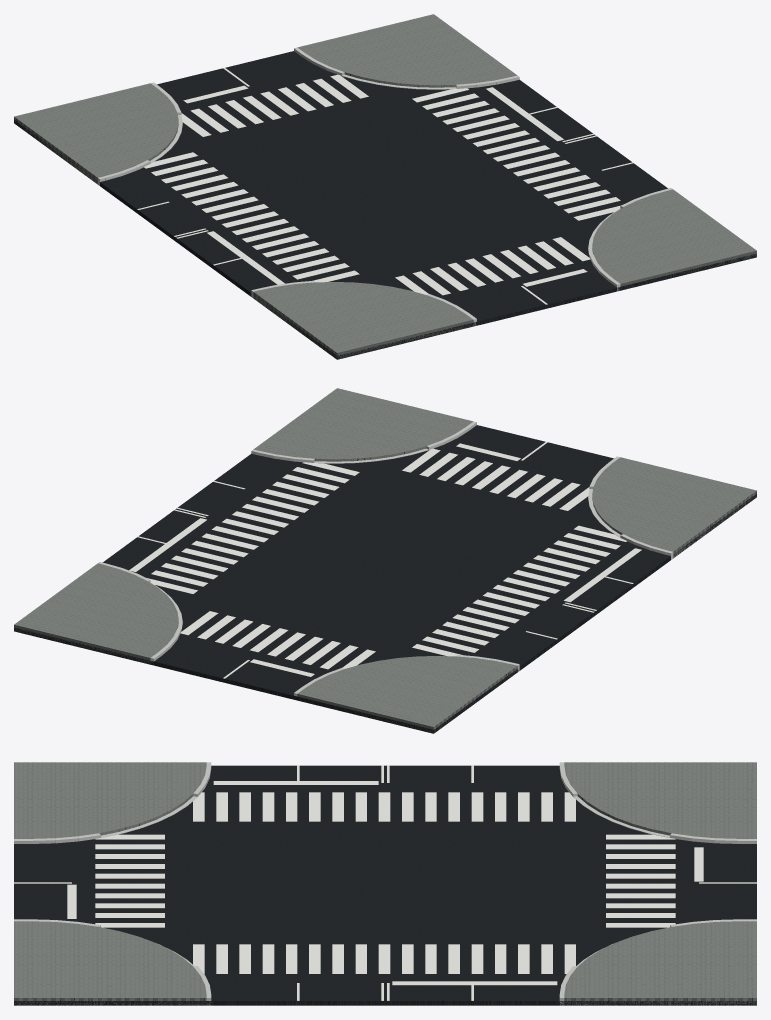
Rendered from RK2_Cross_4x2_24x32m.fbx.
3 views of the same model, one above another, from view 1: azimuth 30°, elevation 25°; view 2: azimuth 150°, elevation 25°; view 3: azimuth 270°, elevation 25° (orthographic). The views are drawn at different scales.
Visible parts, largest first — view 1: COL_Asphalt.002, COL_Paving.002, Markings_White.002, COL_Concrete.002, Curb_Concrete.002; view 2: COL_Asphalt.002, COL_Paving.002, Markings_White.002, COL_Concrete.002, Curb_Concrete.002; view 3: COL_Asphalt.002, COL_Paving.002, Markings_White.002, COL_Concrete.002, Curb_Concrete.002.
Part boxes in pixels (x1,y1,x2,y2): COL_Asphalt.002: (14, 51, 756, 359); COL_Paving.002: (14, 14, 756, 358); Markings_White.002: (137, 67, 633, 304); COL_Concrete.002: (97, 47, 672, 325); Curb_Concrete.002: (99, 47, 671, 319); COL_Asphalt.002: (14, 425, 756, 733); COL_Paving.002: (14, 388, 756, 733); Markings_White.002: (129, 441, 641, 678); COL_Concrete.002: (98, 421, 673, 696); Curb_Concrete.002: (101, 422, 670, 692); COL_Asphalt.002: (14, 765, 756, 1005); COL_Paving.002: (14, 762, 756, 1005); Markings_White.002: (14, 765, 756, 1000); COL_Concrete.002: (14, 762, 756, 1005); Curb_Concrete.002: (14, 762, 756, 997).
Bounding box in the file's own units: 2400 × 37 × 3200.
4 materials, 2 textured.
